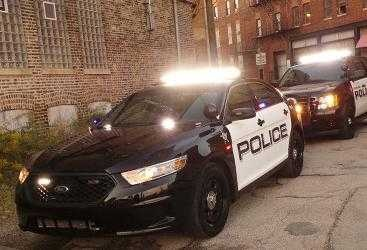Police Car: (11, 51, 314, 250), (269, 41, 367, 136)
